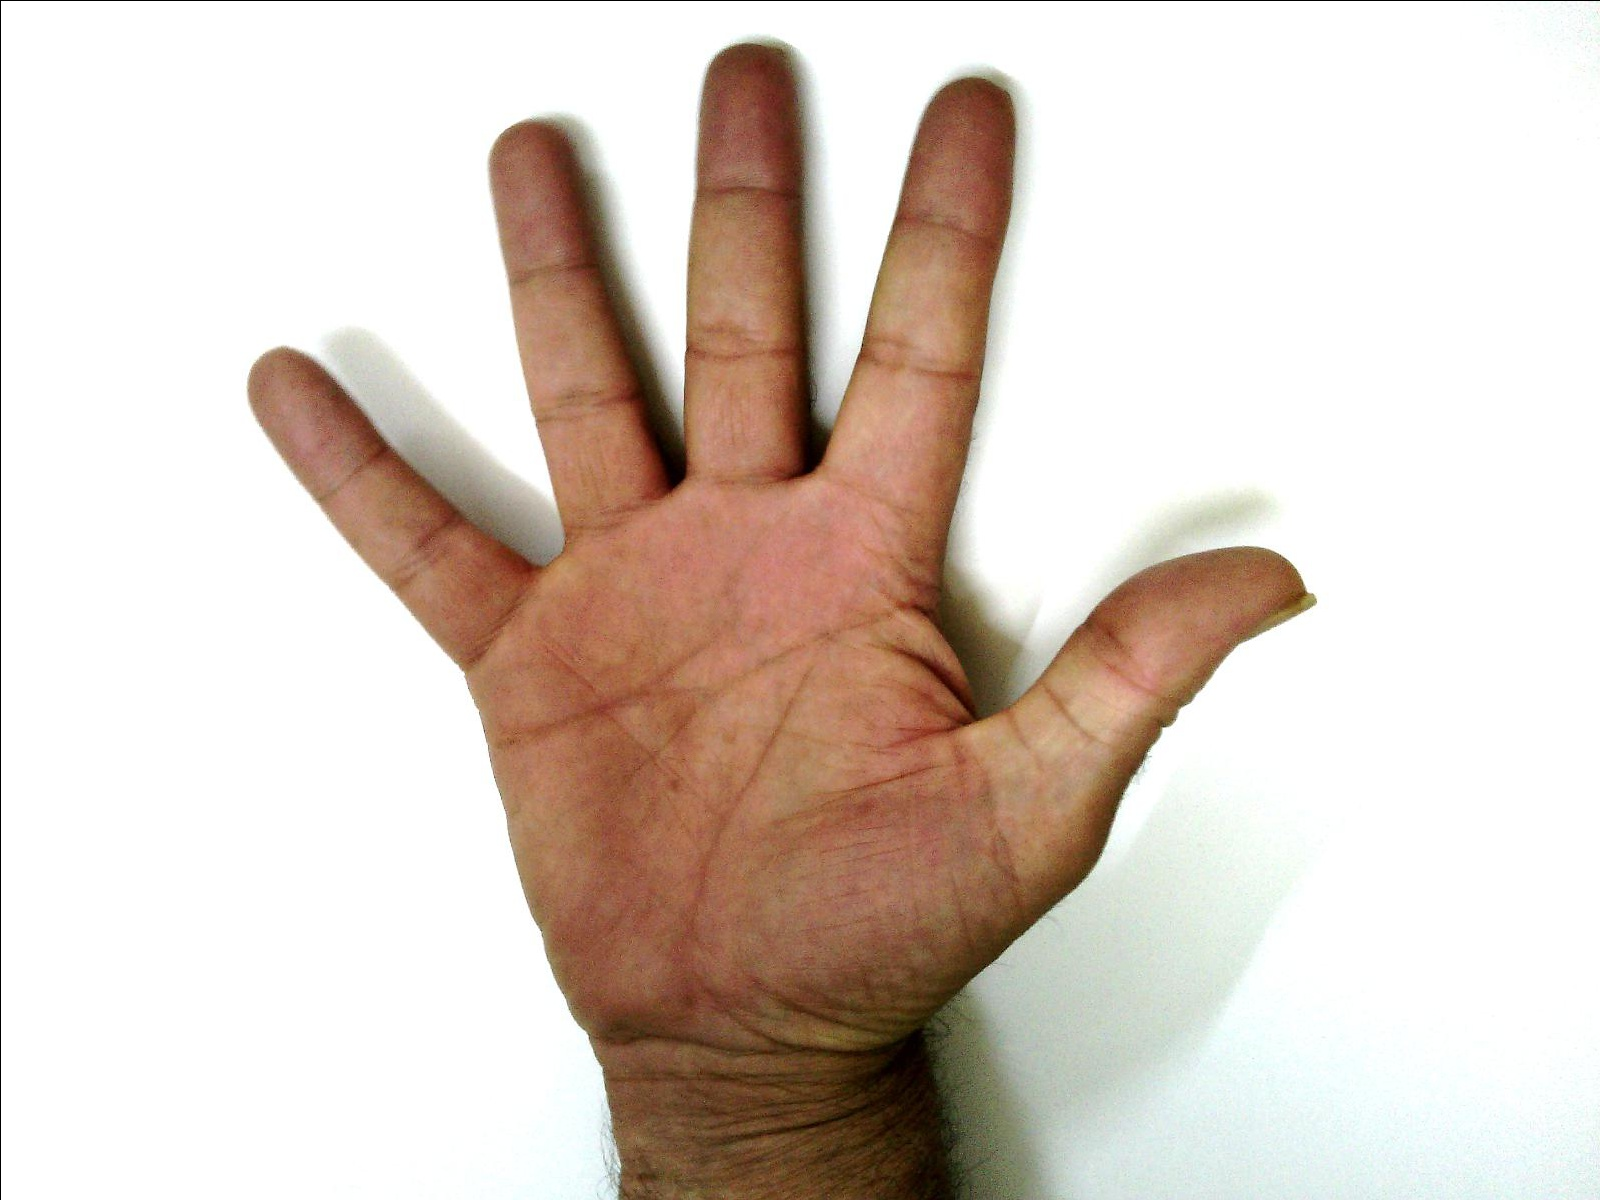5-hand: (248, 38, 1304, 1045)
